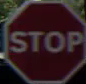Stop: (1, 3, 81, 74)
